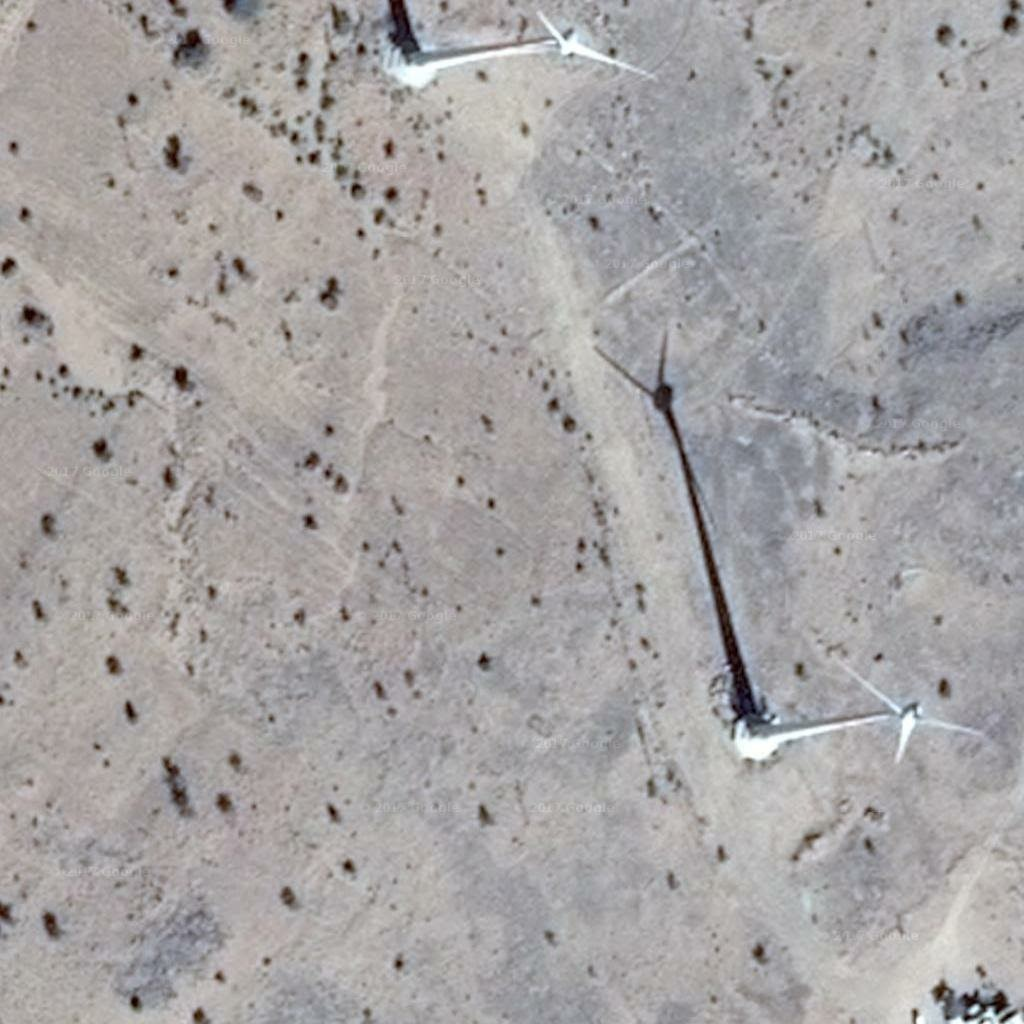Windmill: (591, 338, 784, 716)
